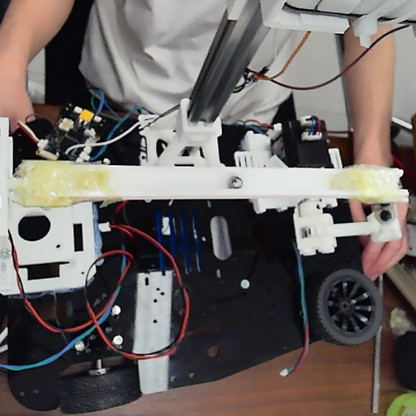ironball: (227, 171, 242, 190)
